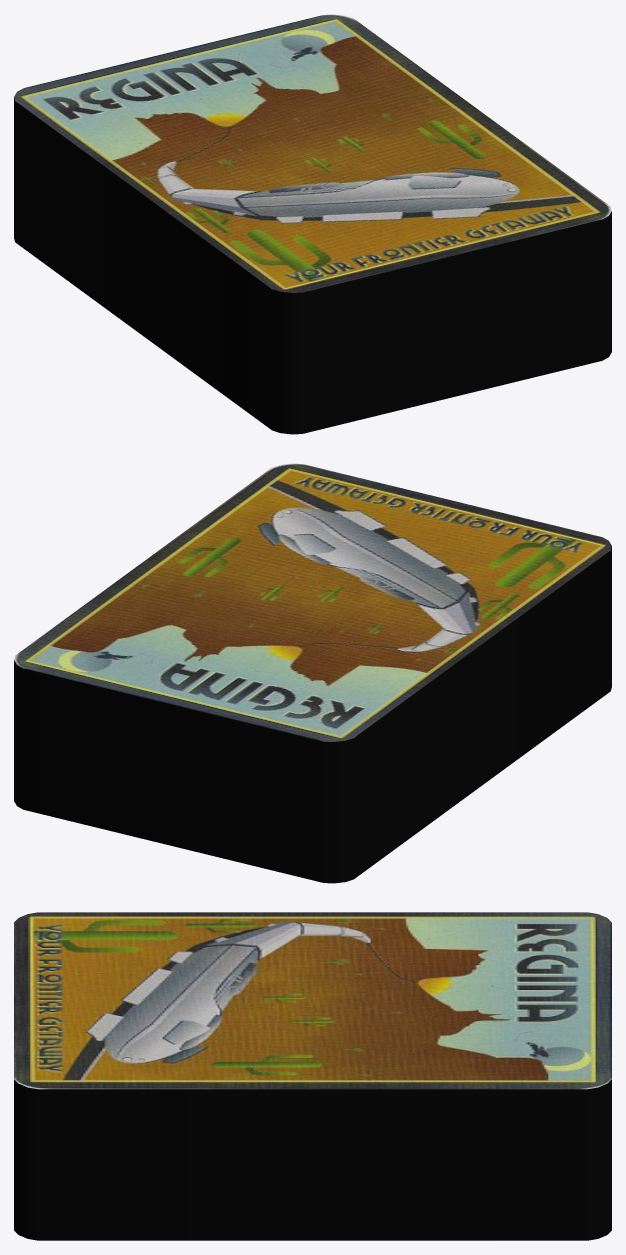
The model's file is Deck.FBX.
3 views of the same model, one above another, from view 1: azimuth 30°, elevation 25°; view 2: azimuth 150°, elevation 25°; view 3: azimuth 270°, elevation 25° (orthographic). The views are drawn at different scales.
Parts seen in each view (by area): view 1: Boîte001; view 2: Boîte001; view 3: Boîte001.
Part boxes in pixels (x1,y1,x2,y2): Boîte001: [14, 14, 611, 434]; Boîte001: [14, 463, 611, 883]; Boîte001: [14, 912, 611, 1240].
Bounding box in the file's own units: 70 × 100 × 27.94.
Materials: 2 (1 with a texture image).
